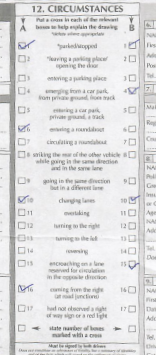check: (16, 40, 30, 52), (15, 194, 28, 205), (126, 85, 138, 96), (127, 195, 138, 206), (127, 40, 138, 50), (127, 259, 138, 269), (17, 124, 27, 134), (17, 284, 27, 294)
